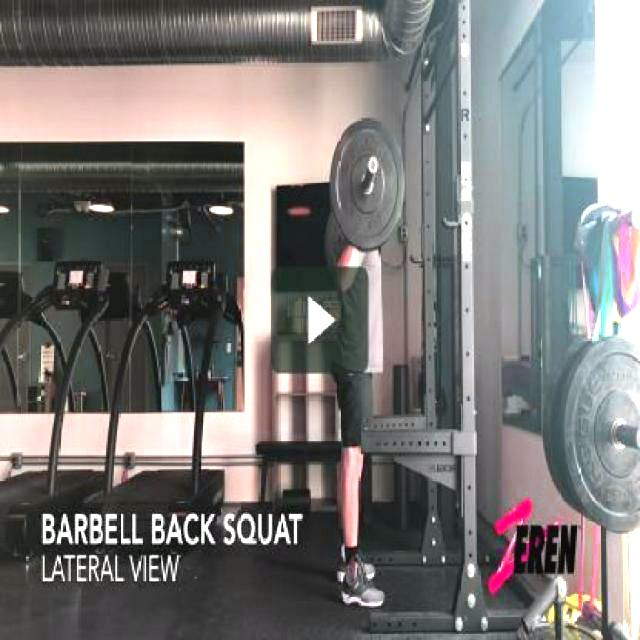barbell: (327, 110, 409, 257)
